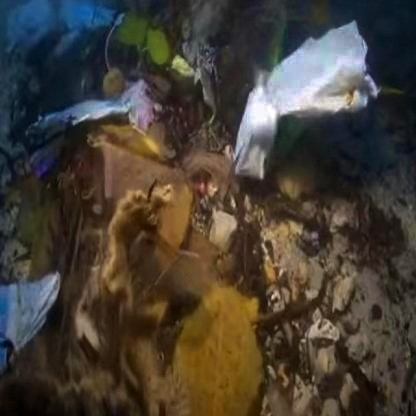plastic: (43, 59, 176, 167), (263, 38, 385, 148)
